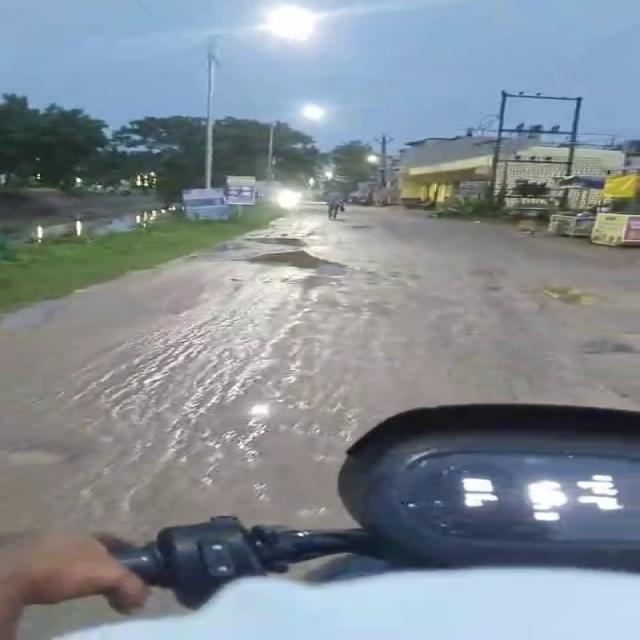pothole: (247, 246, 341, 281), (0, 444, 76, 476), (537, 283, 606, 312), (245, 227, 308, 250), (578, 335, 636, 358), (478, 285, 506, 295)
